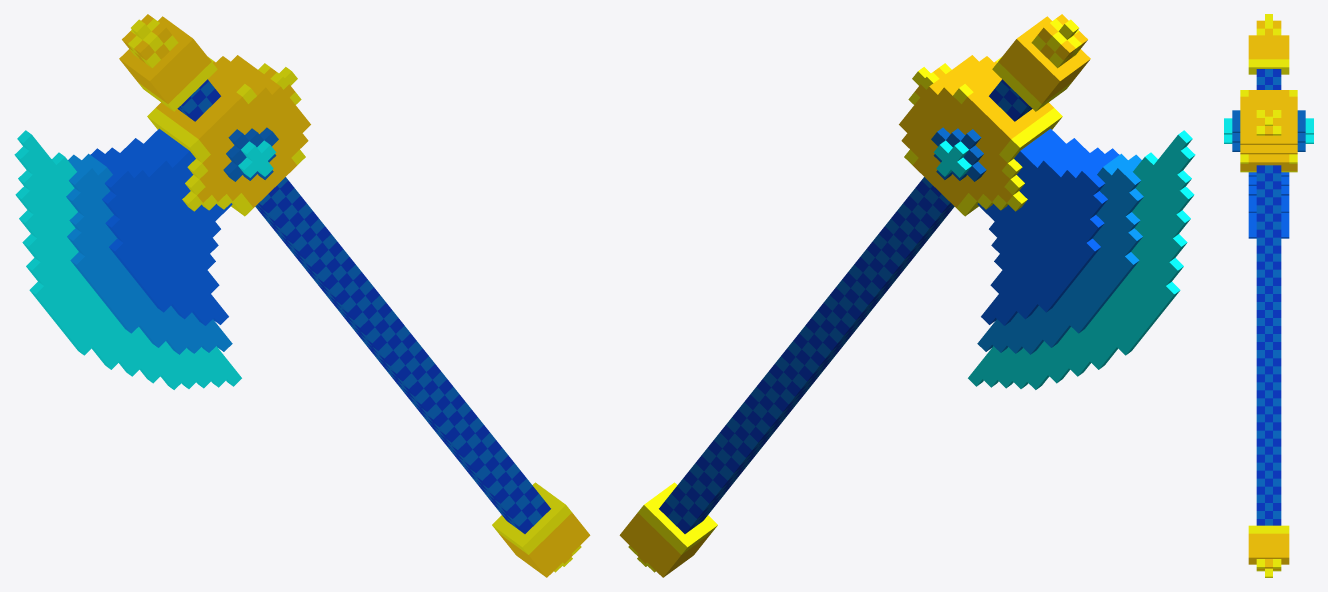
The model's file is axe-lv3.glb.
The picture shows the model from 3 angles, left to right: view 1: azimuth 30°, elevation 25°; view 2: azimuth 150°, elevation 25°; view 3: azimuth 270°, elevation 25°; orthographic projection. The views are drawn at different scales.
Visible parts, largest first — view 1: axe lv3; view 2: axe lv3; view 3: axe lv3.
Part boxes in pixels (x1,y1,x2,y2): axe lv3: (14, 14, 590, 577); axe lv3: (619, 14, 1195, 577); axe lv3: (1224, 14, 1313, 577).
Size of the model in its own units: 0.9147 by 1.01 by 0.1922.
1 material, 1 textured.
